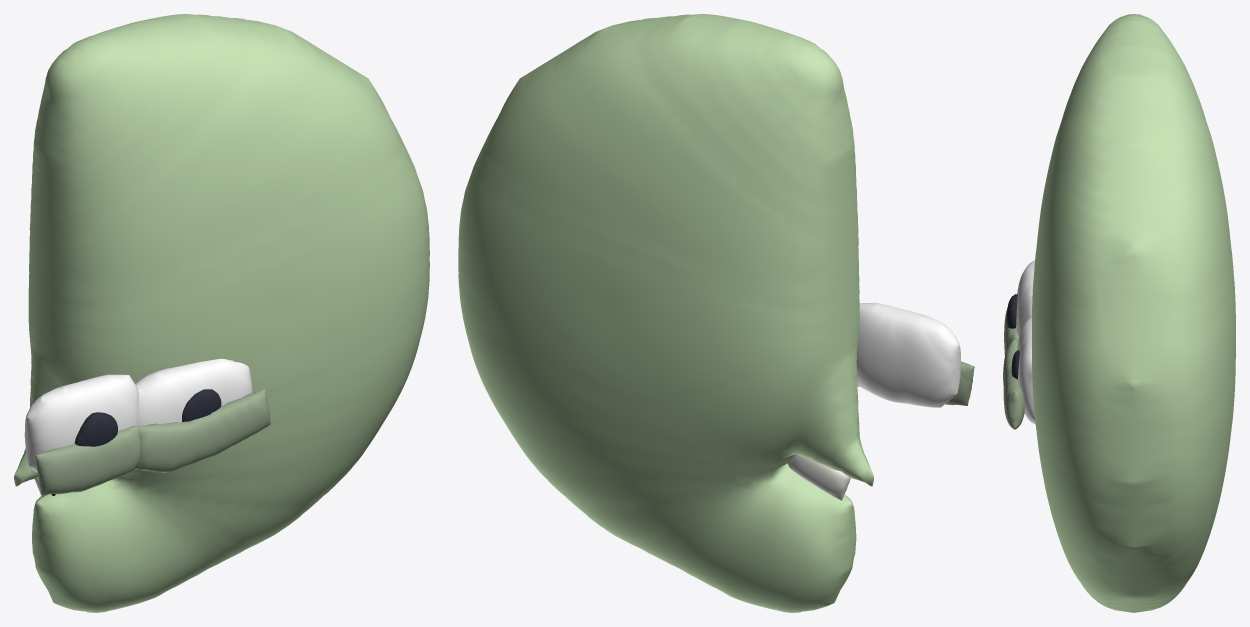
File: d_alphabet_lore.glb
3 views of the same model, side by side, from view 1: azimuth 30°, elevation 25°; view 2: azimuth 150°, elevation 25°; view 3: azimuth 270°, elevation 25° (orthographic). The views are drawn at different scales.
Visible parts, largest first — view 1: root_Material_44_0, root_Material_74_0, root_Material_52_0, root_Material_48_0, root_Material_70_0, root_Material_66_0, root_Material_62_0; view 2: root_Material_44_0, root_Material_52_0, root_Material_78_0; view 3: root_Material_44_0, root_Material_74_0, root_Material_48_0, root_Material_52_0.
Boxes of the visible parts, x1=… form: root_Material_44_0: x1=14, y1=14, x2=429, y2=612; root_Material_74_0: x1=135, y1=389, x2=270, y2=473; root_Material_52_0: x1=24, y1=374, x2=138, y2=472; root_Material_48_0: x1=135, y1=358, x2=252, y2=425; root_Material_70_0: x1=35, y1=425, x2=140, y2=494; root_Material_66_0: x1=74, y1=412, x2=117, y2=446; root_Material_62_0: x1=182, y1=389, x2=221, y2=421; root_Material_44_0: x1=458, y1=14, x2=873, y2=612; root_Material_52_0: x1=856, y1=303, x2=961, y2=407; root_Material_78_0: x1=788, y1=454, x2=850, y2=500; root_Material_44_0: x1=1032, y1=14, x2=1235, y2=612; root_Material_74_0: x1=1003, y1=338, x2=1024, y2=429; root_Material_48_0: x1=1017, y1=317, x2=1035, y2=424; root_Material_52_0: x1=1016, y1=260, x2=1034, y2=336.
Bounding box in the file's own units: 0.00582 × 0.00713 × 0.00272.
